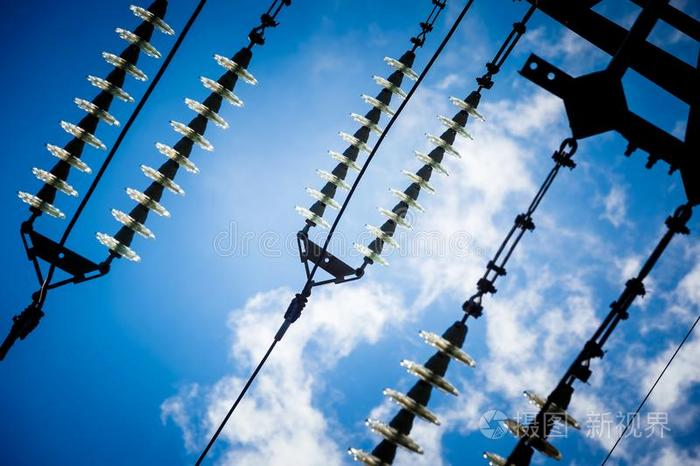insulator: (95, 47, 257, 265), (20, 3, 167, 218), (355, 93, 485, 267), (297, 52, 417, 228), (342, 326, 476, 466), (480, 387, 584, 466)
